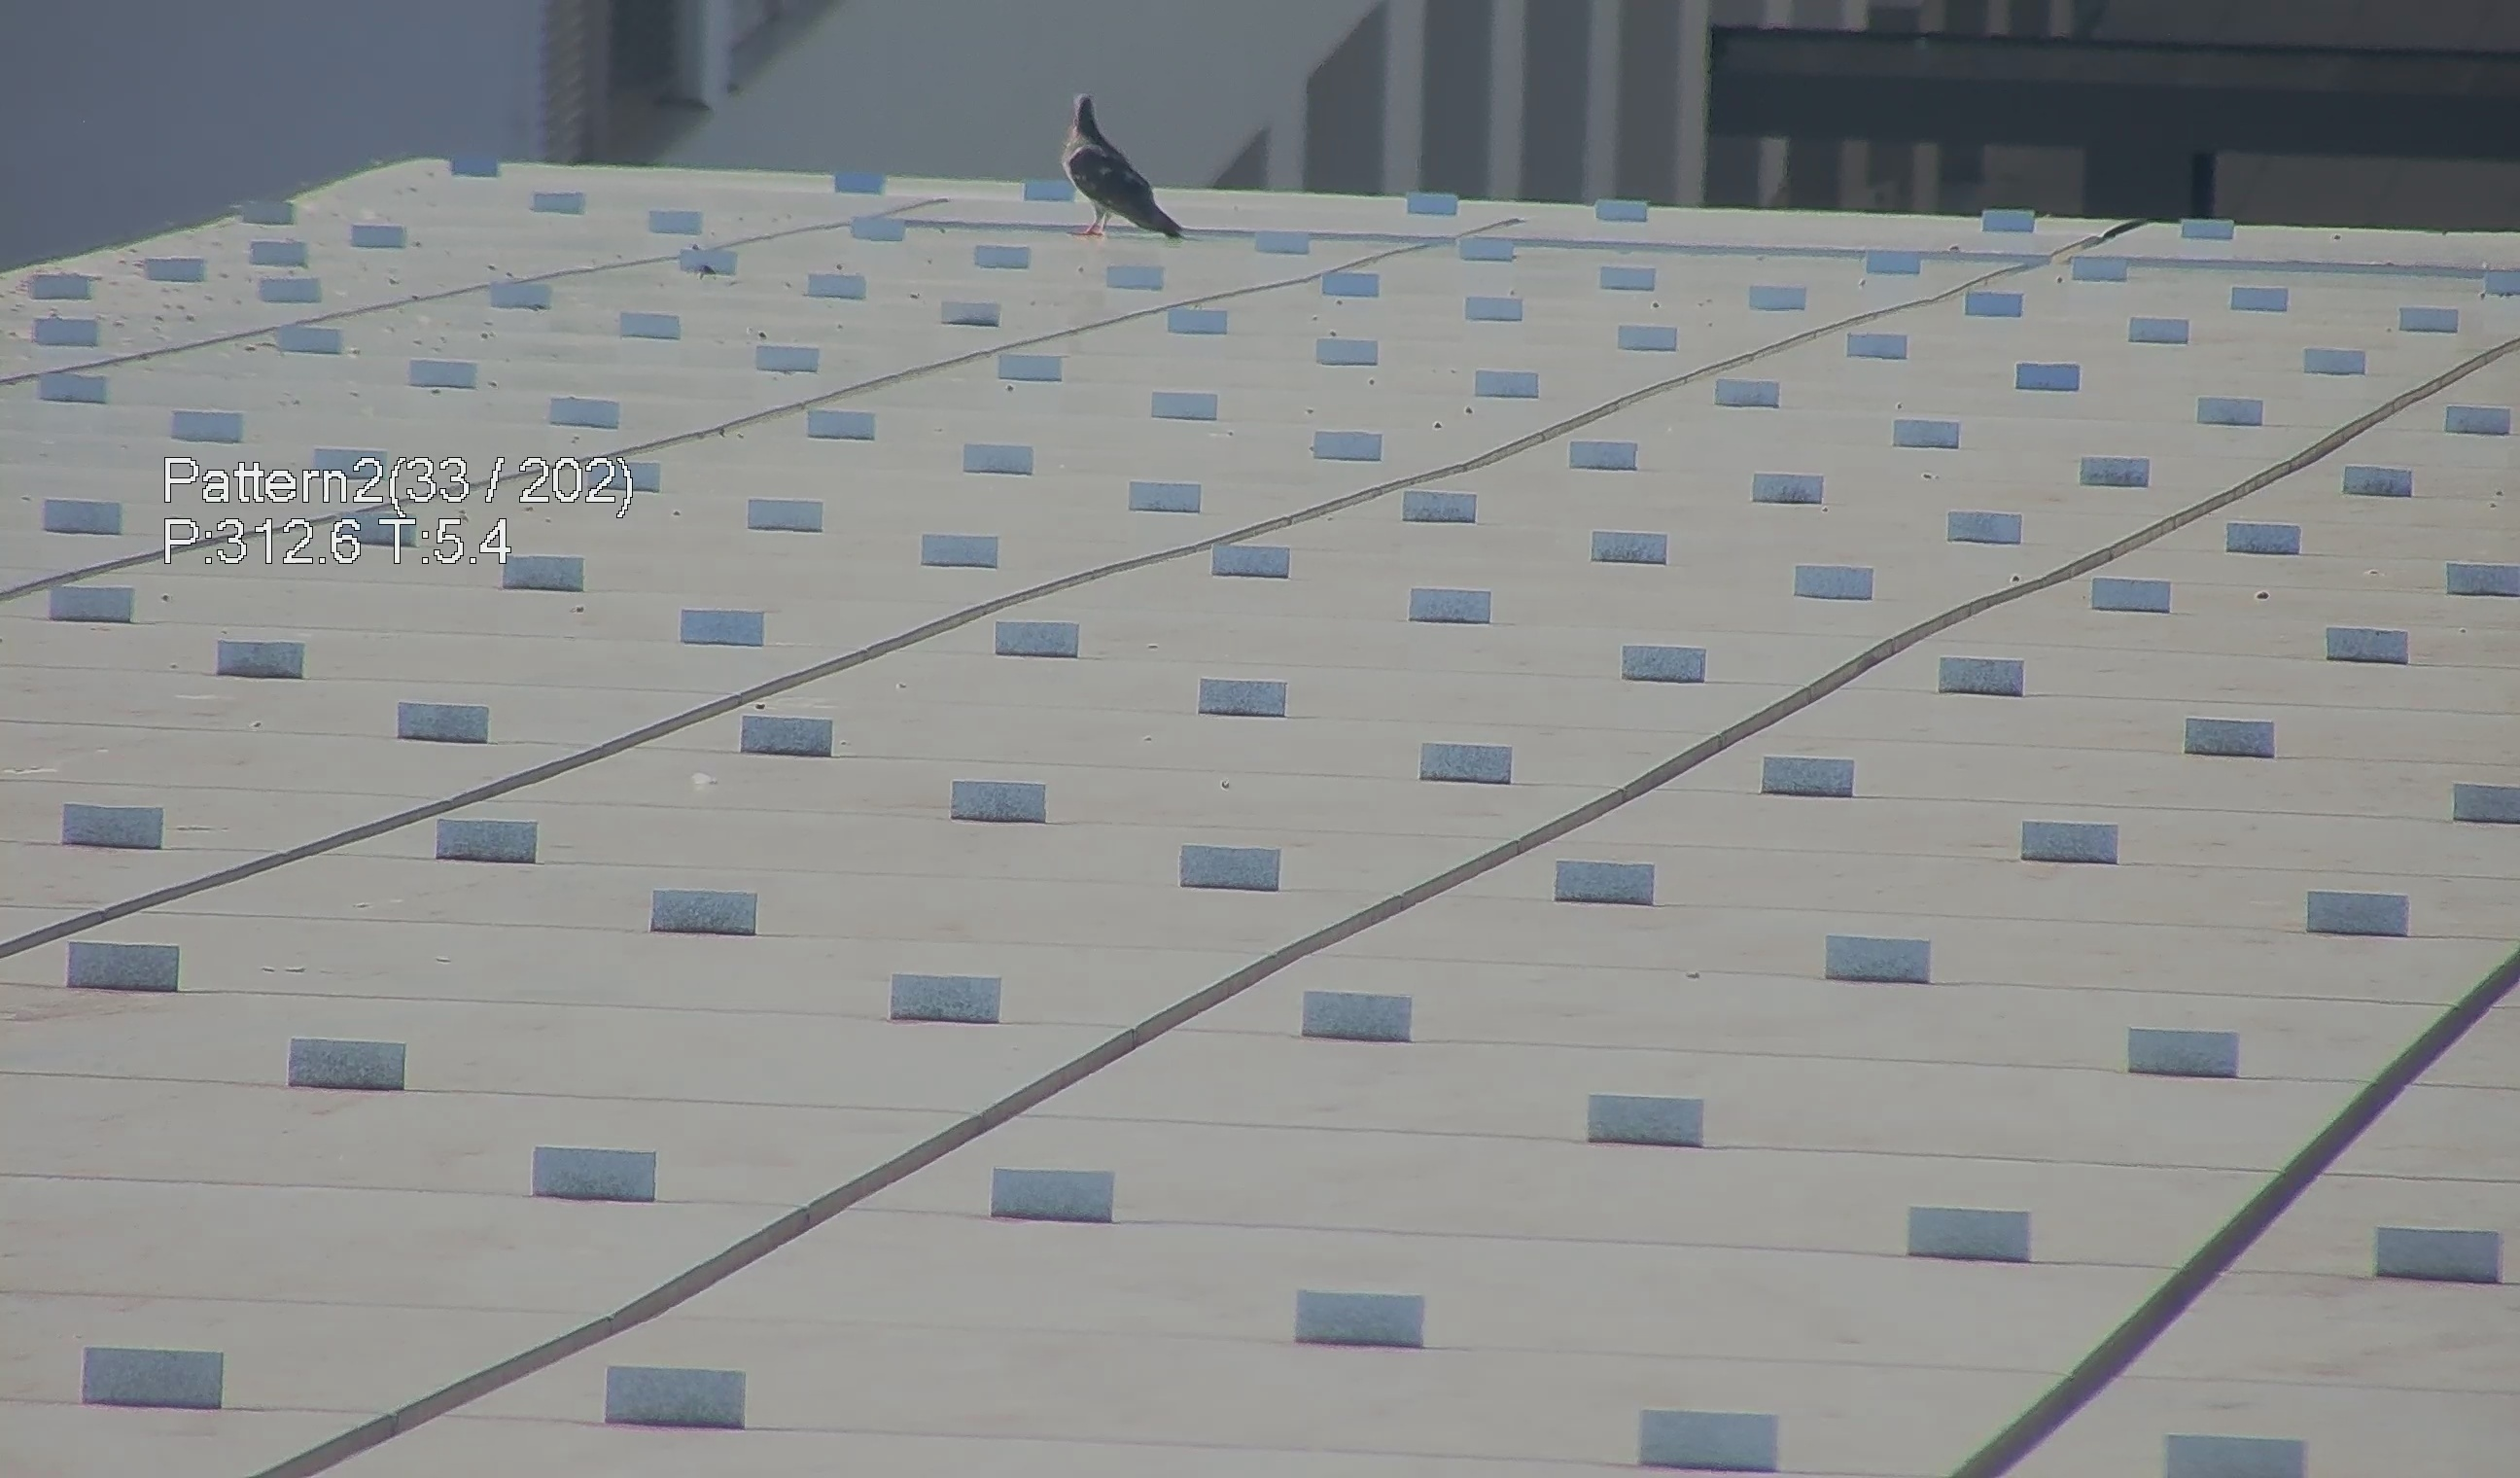Pigeon: (1046, 81, 1182, 243)
